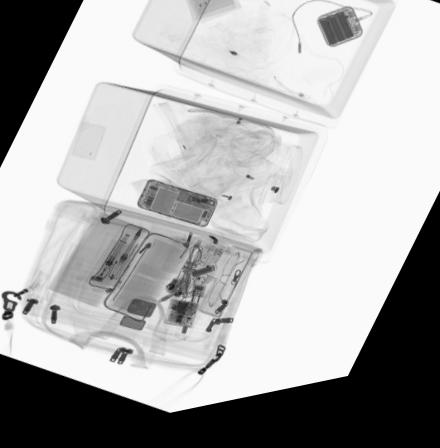Powerbank: (315, 19, 363, 63)
